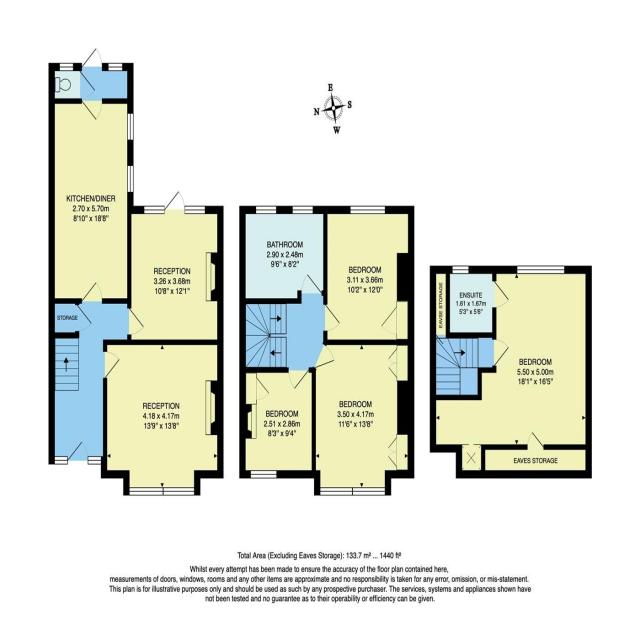DOOR: (312, 343, 335, 369), (492, 280, 511, 309), (81, 46, 103, 71), (81, 280, 103, 304), (164, 189, 185, 214), (323, 303, 341, 332), (81, 98, 103, 121), (127, 307, 145, 335), (288, 367, 309, 390), (301, 273, 322, 296), (492, 338, 509, 366), (103, 351, 120, 379)
ROOM: (429, 265, 592, 479), (100, 339, 224, 496), (48, 98, 134, 304), (311, 339, 414, 496), (127, 190, 224, 345), (323, 205, 415, 346), (239, 205, 328, 304), (239, 367, 316, 479)
WINDOW: (129, 486, 195, 496), (320, 486, 385, 496), (516, 265, 565, 274), (350, 205, 386, 214), (250, 470, 277, 479), (127, 113, 134, 141), (127, 165, 134, 193), (255, 205, 276, 214), (292, 205, 313, 214), (184, 205, 205, 214), (143, 206, 165, 214), (452, 265, 469, 275), (59, 62, 74, 72), (108, 63, 123, 71)
